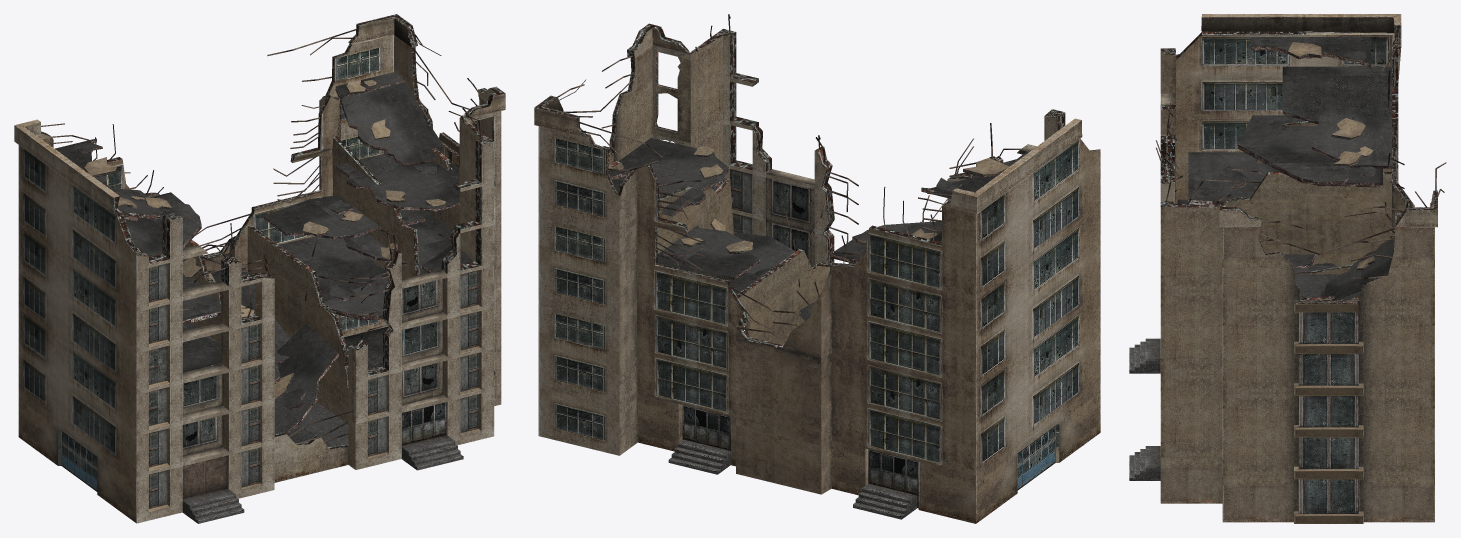
File: buildings_05_ruin.FBX
3 renders of one model, left to right at view 1: azimuth 30°, elevation 25°; view 2: azimuth 150°, elevation 25°; view 3: azimuth 270°, elevation 25°, orthographic. The views are drawn at different scales.
Parts seen in each view (by area): view 1: Object014; view 2: Object014; view 3: Object014.
Boxes of the visible parts, <box> form: Object014: <box>14,14,505,523</box>; Object014: <box>534,14,1100,523</box>; Object014: <box>1129,14,1446,523</box>.
Size of the model in its own units: 3074 by 2066 by 2293.
Materials: 2 (2 with a texture image).
